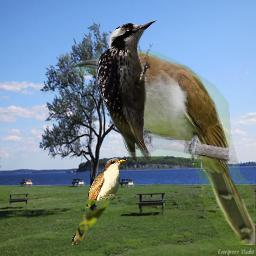Cuckoo: (72, 50, 255, 245), (69, 156, 129, 247)
Woodpecker: (91, 13, 161, 169)
